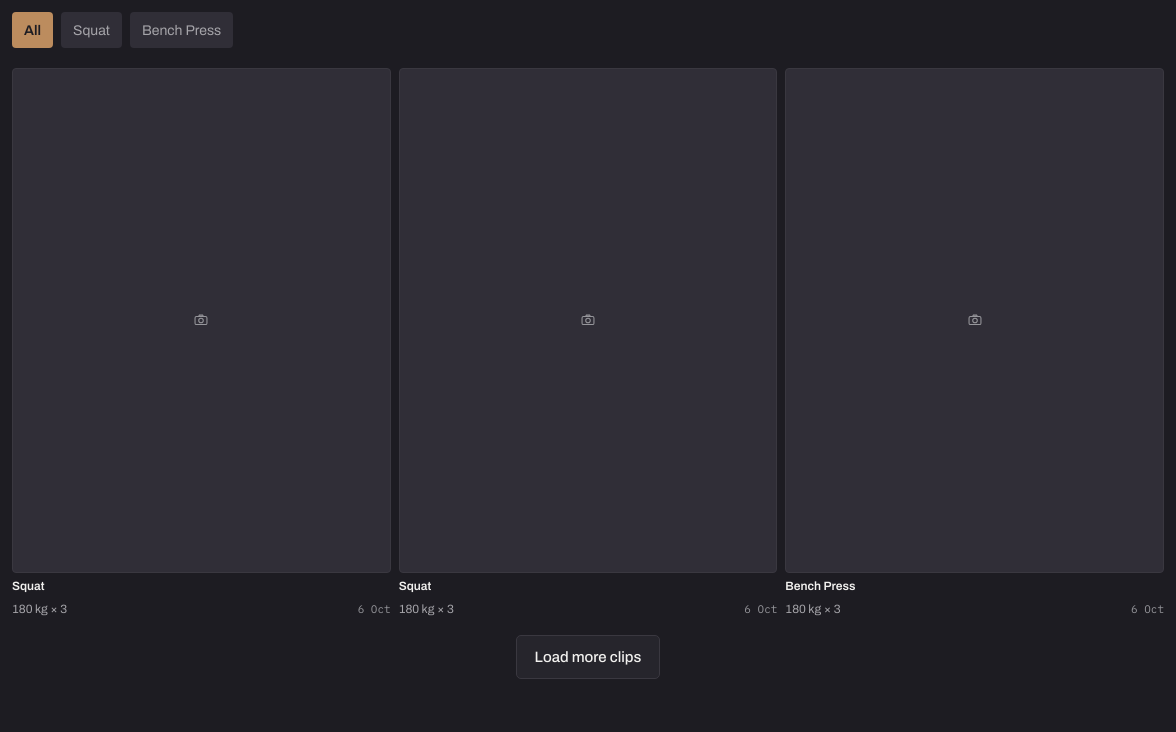
the lift filter › offers the filmed lifts and asks the server for the one chosen
This screenshot has width=1176, height=732.
Click the button "Bench Press".
click(182, 30)  # box [130,12,233,48]
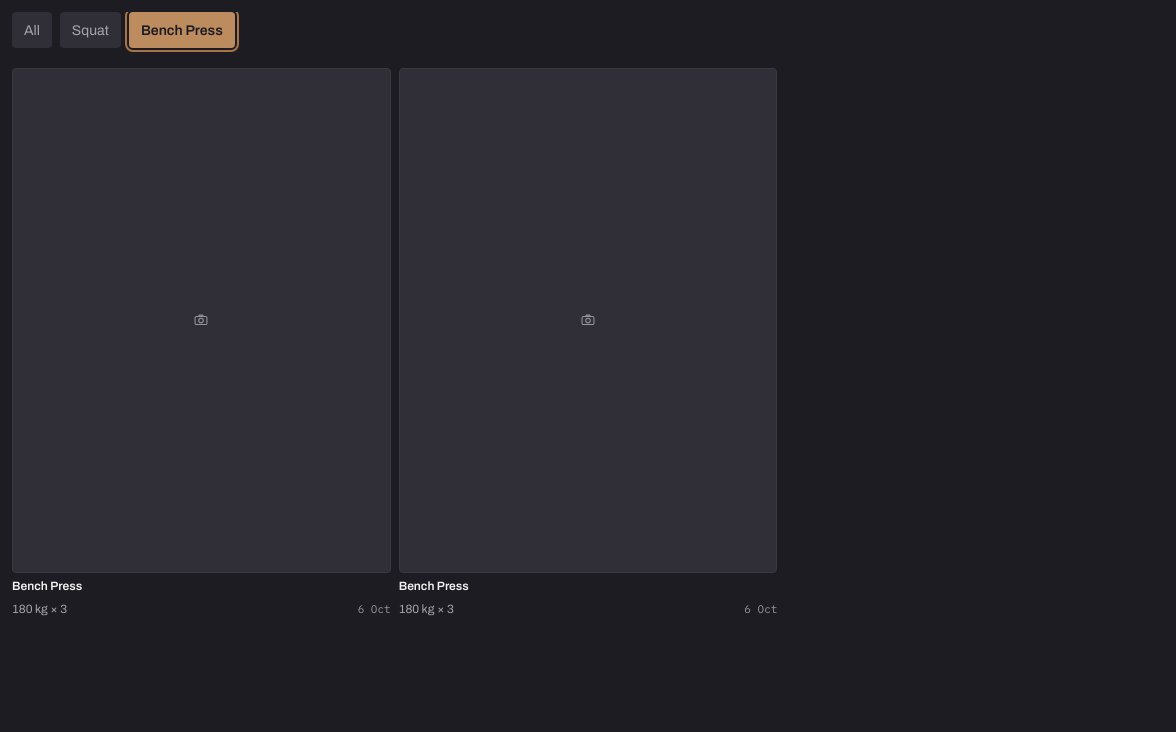
Expected: the button "Squat" is shown, [60,12,121,48]
Expected: the number of links is 2, [12,68,391,619]; [399,68,777,619]
Back to All shows what was already loaded, without asking again.
Click the button "All".
click(32, 30)  # box [12,12,52,48]
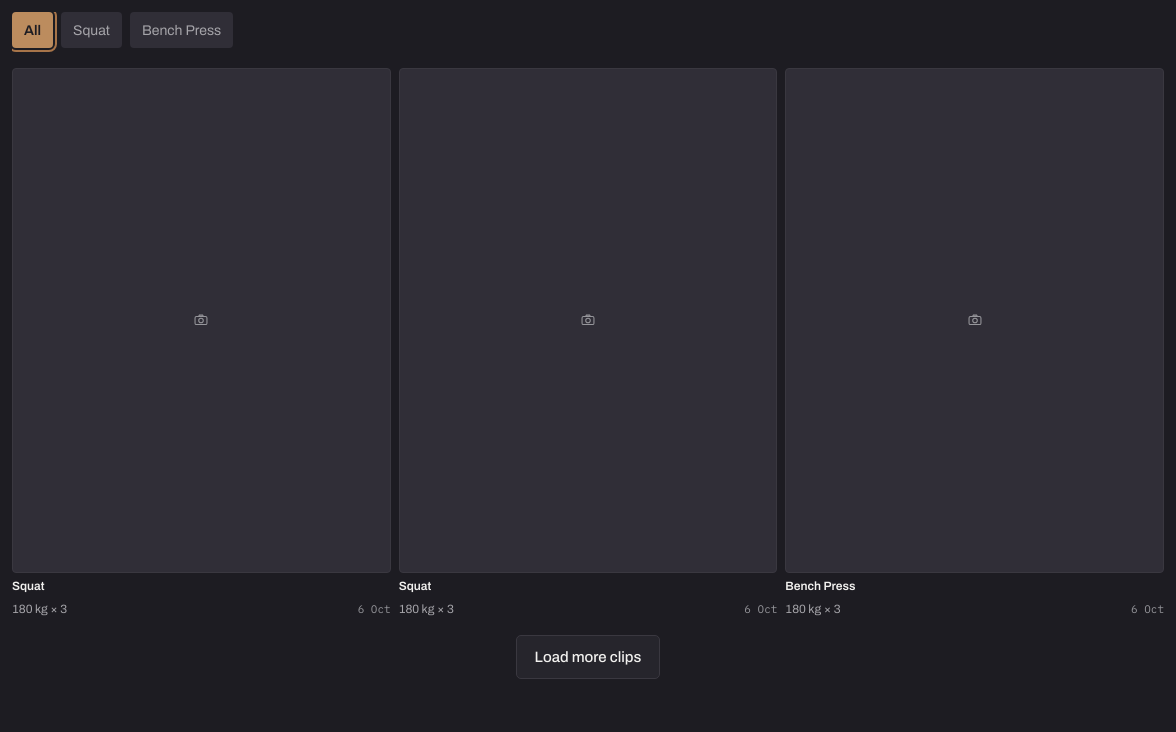
Expected: the number of links is 3, [12,68,391,619]; [399,68,777,619]; [785,68,1164,619]
